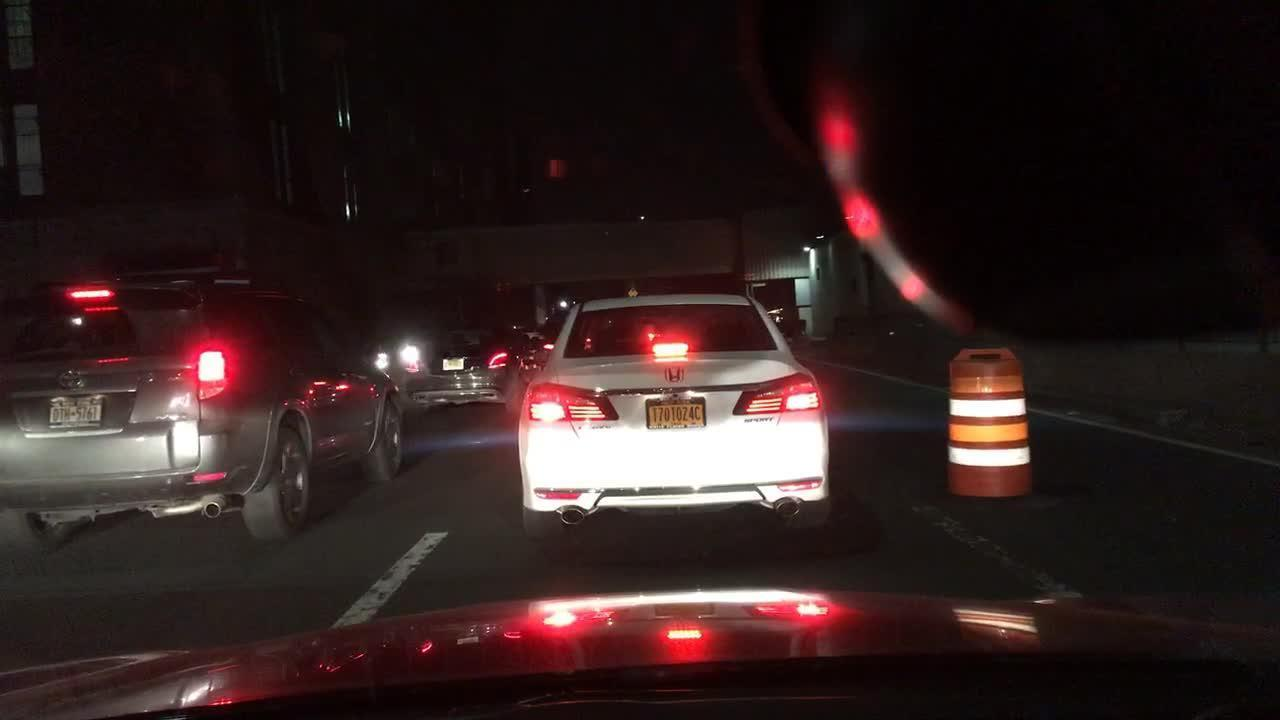Honda: (661, 361, 694, 385)
Toyota: (48, 367, 90, 394)
